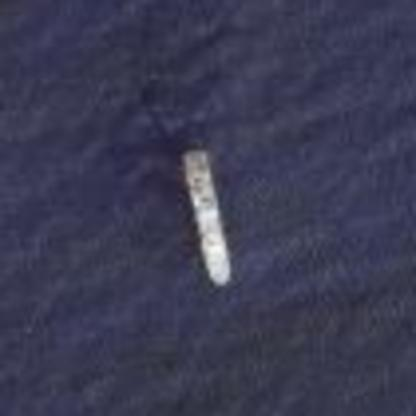ship: (169, 138, 247, 294)
